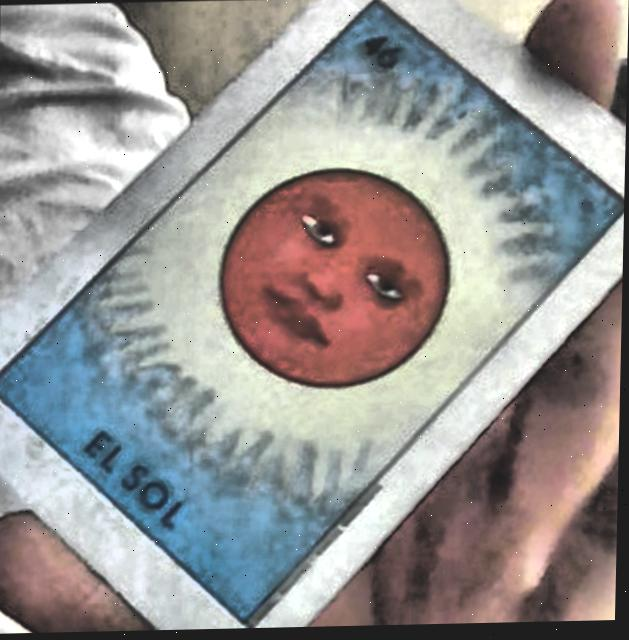El Sol: (0, 4, 625, 627)
